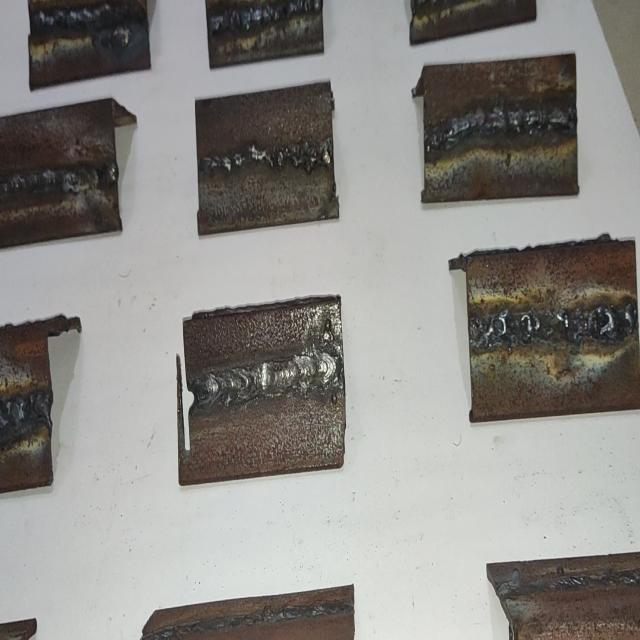Defect: (430, 99, 574, 150), (472, 309, 634, 341), (5, 164, 111, 200), (204, 144, 330, 174)
Welding Line: (474, 302, 635, 350), (426, 100, 572, 152), (200, 348, 338, 401), (199, 138, 331, 175), (1, 160, 112, 202), (208, 0, 320, 35), (32, 0, 144, 33), (0, 390, 46, 426)
Workpiece: (466, 244, 640, 417), (180, 300, 346, 480), (194, 82, 336, 232), (422, 60, 576, 198), (0, 104, 117, 245), (26, 0, 156, 88), (0, 325, 52, 498), (203, 0, 325, 69)
